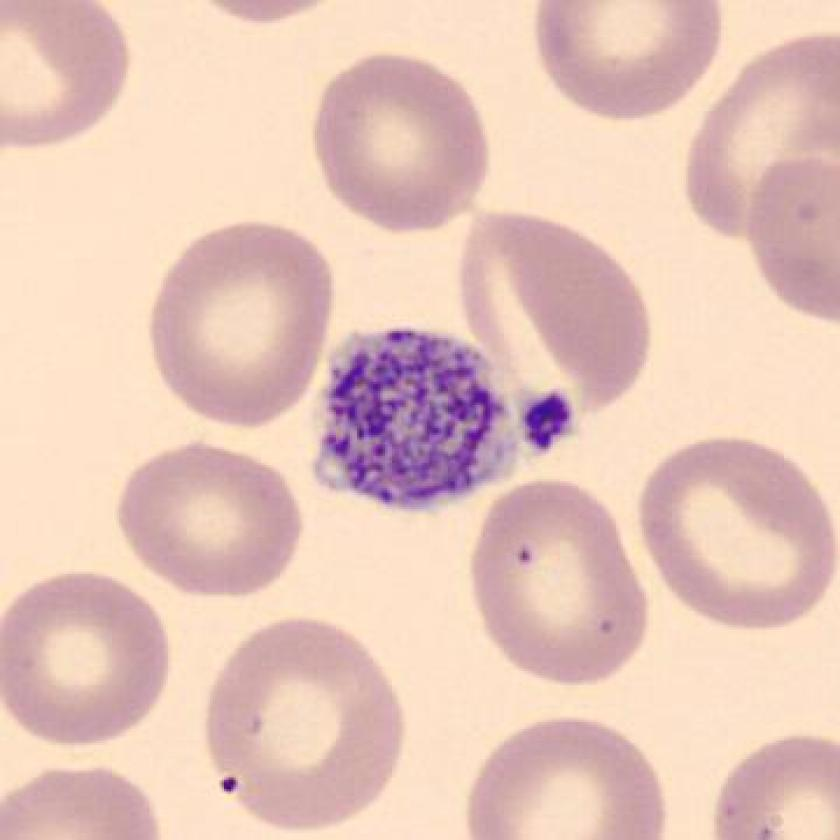platelets: (291, 318, 543, 517), (507, 374, 589, 464)
